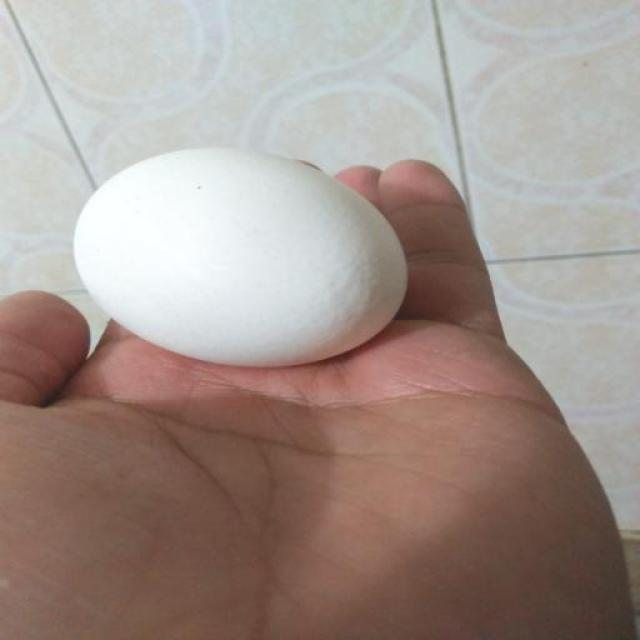telur: (73, 148, 409, 370)
